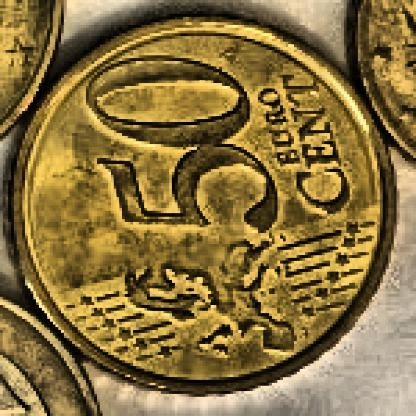coin: (8, 13, 399, 395)
